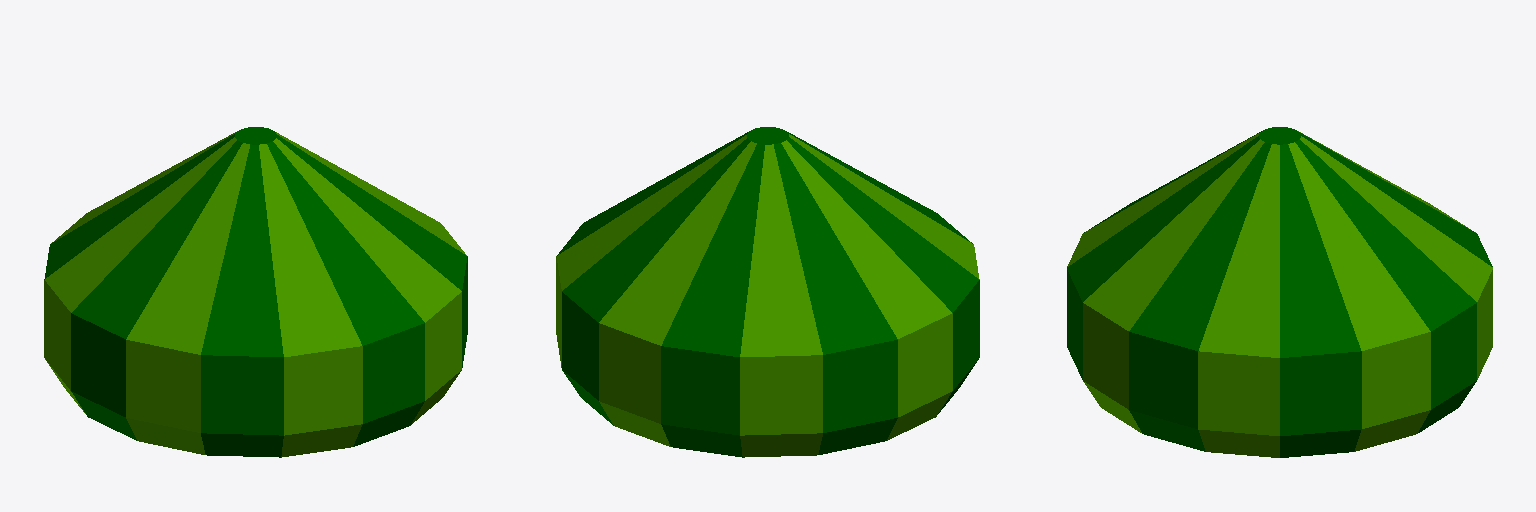
File: diamondGreen.obj
3 views of the same model, side by side, from view 1: azimuth 30°, elevation 25°; view 2: azimuth 150°, elevation 25°; view 3: azimuth 270°, elevation 25° (orthographic).
Visible parts, largest first — view 1: Mesh1 Model; view 2: Mesh1 Model; view 3: Mesh1 Model.
Boxes of the visible parts, x1,y1,x2,y2 form: Mesh1 Model: [44, 127, 467, 457]; Mesh1 Model: [556, 127, 979, 457]; Mesh1 Model: [1067, 127, 1492, 457].
Bounding box in the file's own units: 3.22 × 2 × 3.22.